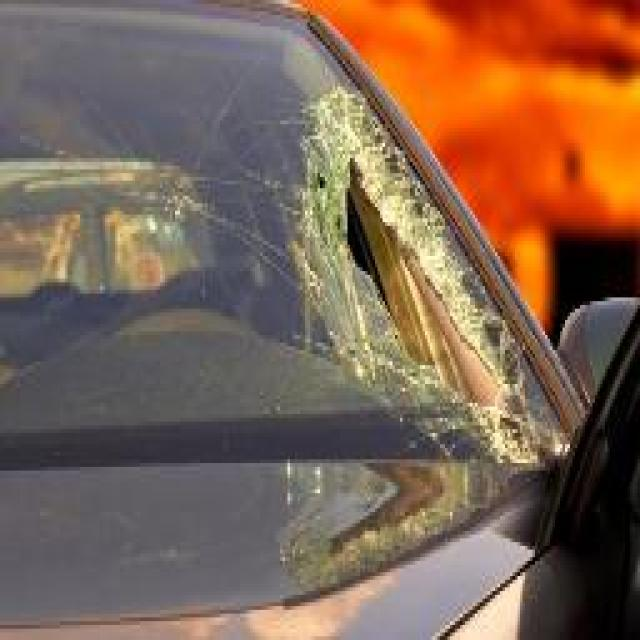Windshield: (60, 8, 558, 557)
